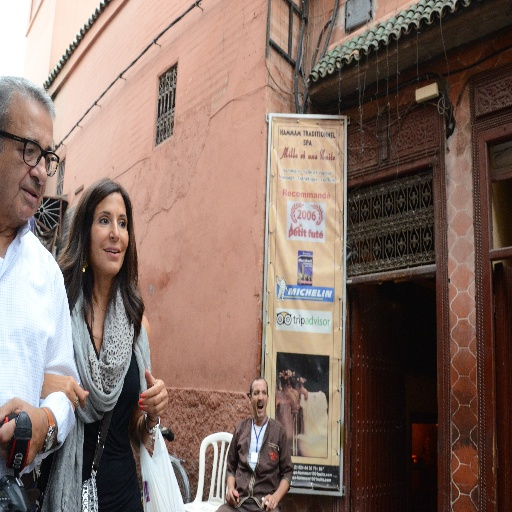hand: (0, 393, 46, 470), (42, 368, 90, 413), (130, 384, 165, 439), (224, 486, 240, 508), (260, 492, 278, 511)
